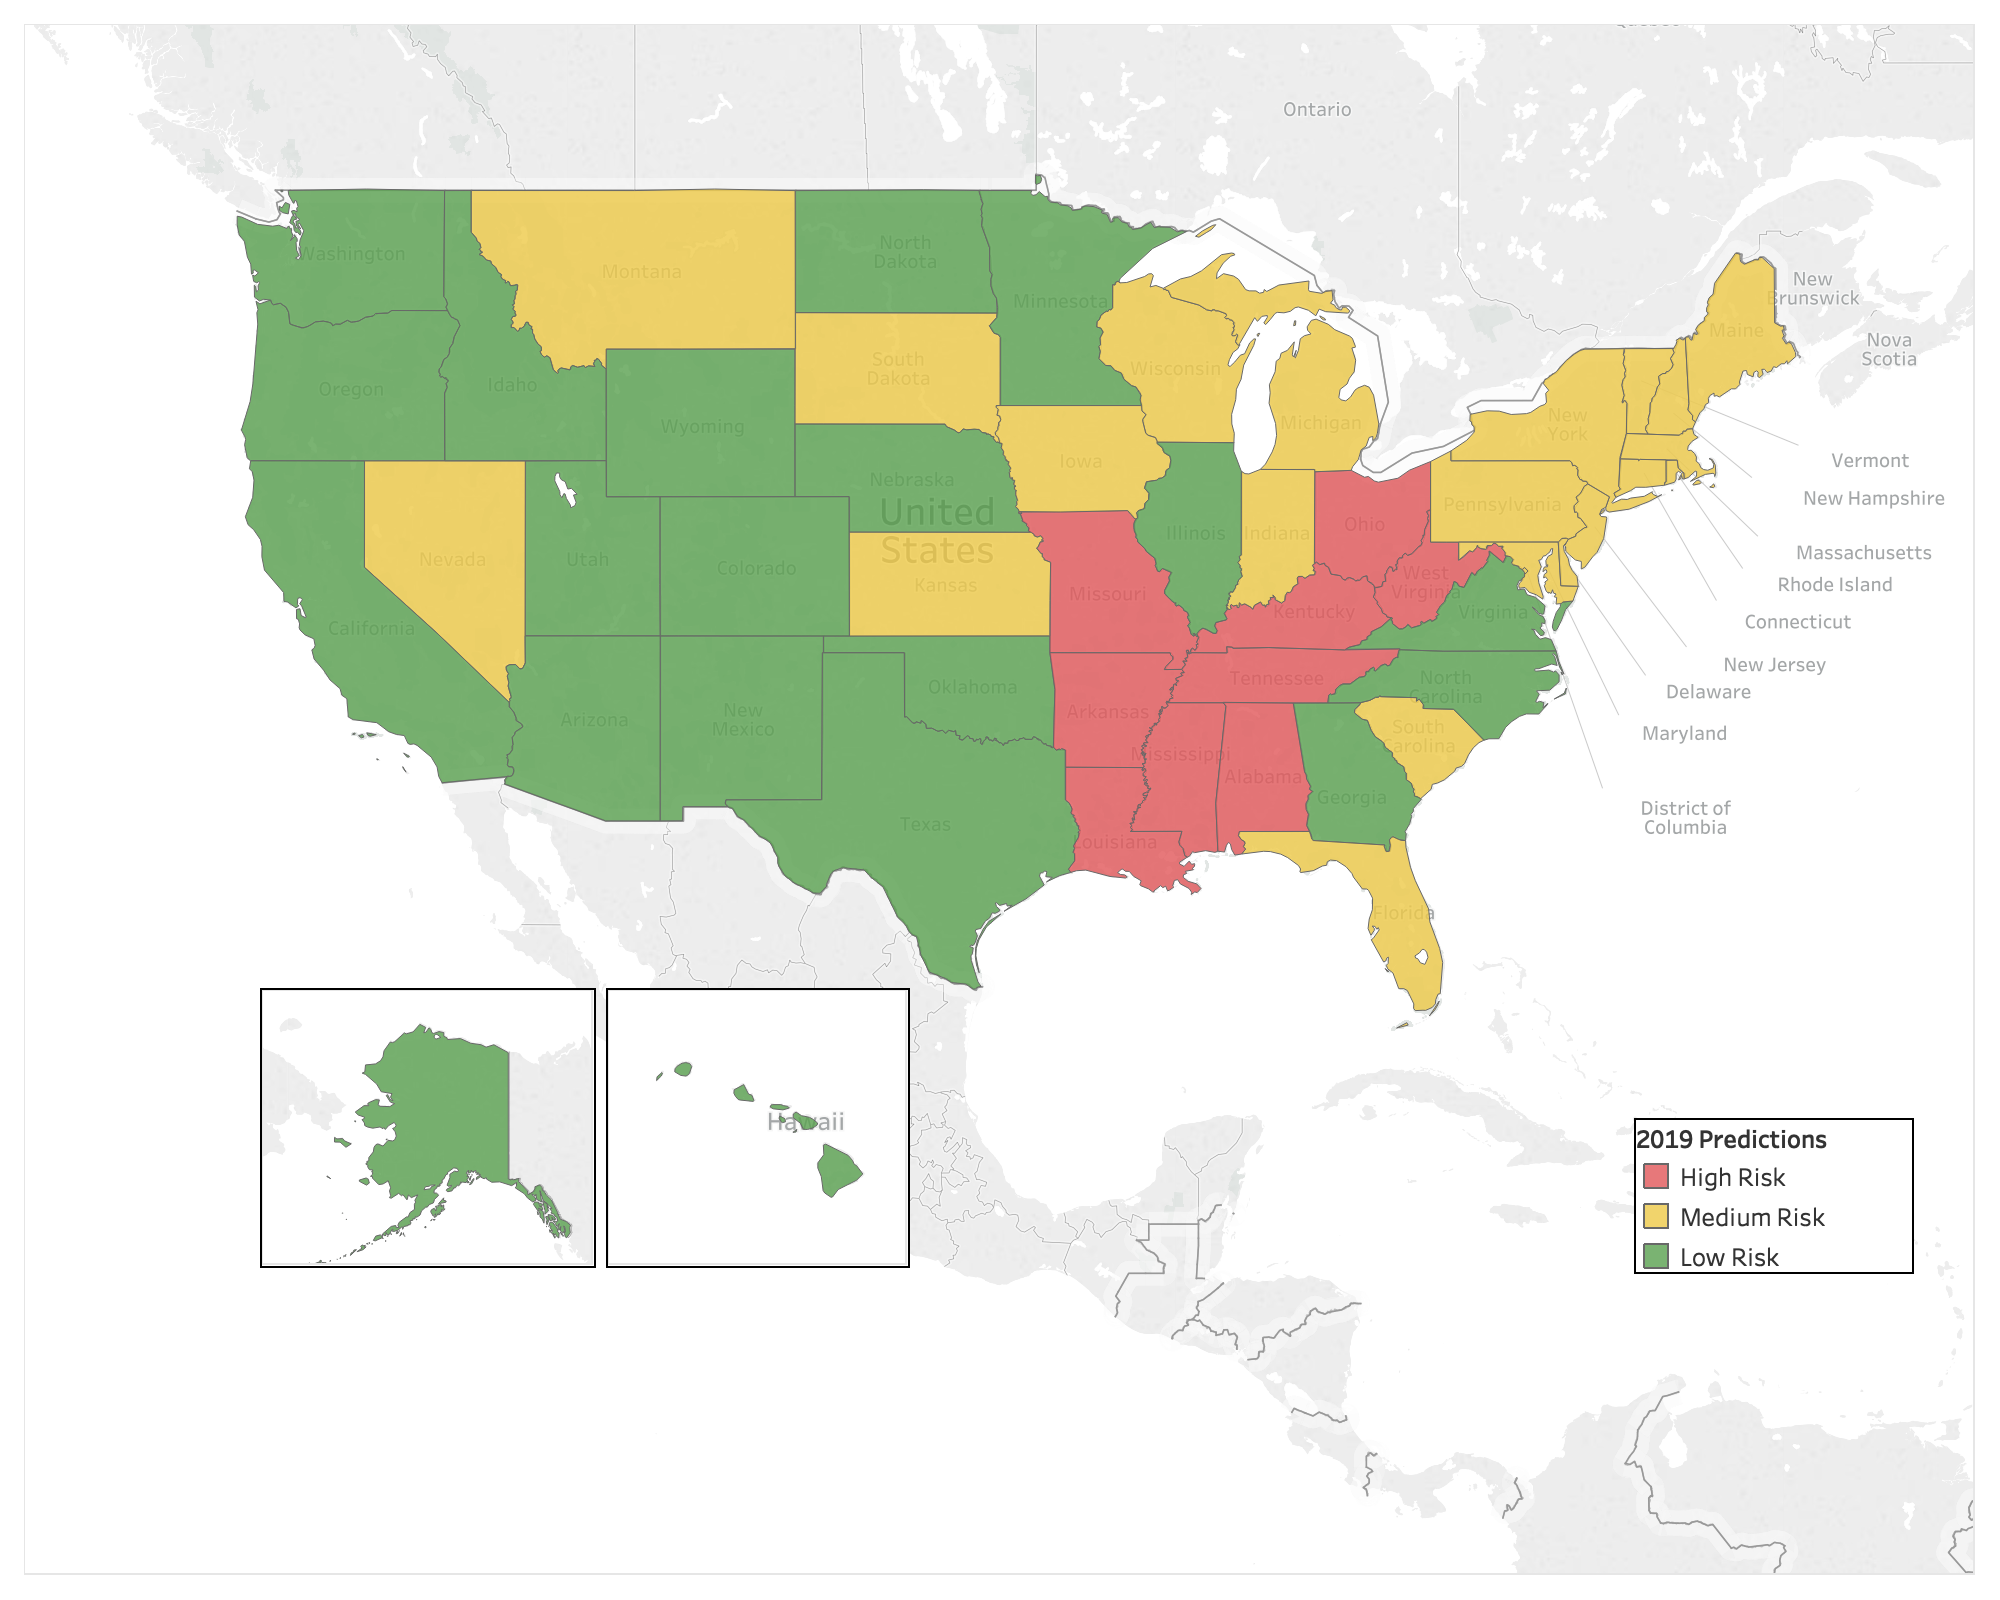

Layout of this report page (visuals, bound fields, positions):
{"tool":"tableau","page":{"name":"Combined Dashboard","canvas":[1000,800],"ordinal":0},"visuals":[{"type":"worksheet","title":"Continental US","mark":"Multipolygon","box":[8,8,984,784]},{"type":"worksheet","title":"Alaska","mark":"Multipolygon","box":[130,494,168,140]},{"type":"worksheet","title":"Hawaii","mark":"Multipolygon","box":[303,494,152,140]},{"type":"legend","title":"Continental US","param":"[federated.0m2l6ym0lxfjpv17yf2tp1avjzvb].[none:Calculation_3261732089231159298:n","box":[817,559,140,78]}]}

Visuals, with their boxes in screenshot pixels (x1, y1, x2, y2), scaled from the page's 1000x800 canvas onto the 2000x1600 screenshot:
"Continental US" worksheet (Multipolygon marks): [x1=16, y1=16, x2=1984, y2=1584]
"Alaska" worksheet (Multipolygon marks): [x1=260, y1=988, x2=596, y2=1268]
"Hawaii" worksheet (Multipolygon marks): [x1=606, y1=988, x2=910, y2=1268]
"Continental US" legend: [x1=1634, y1=1118, x2=1914, y2=1274]
